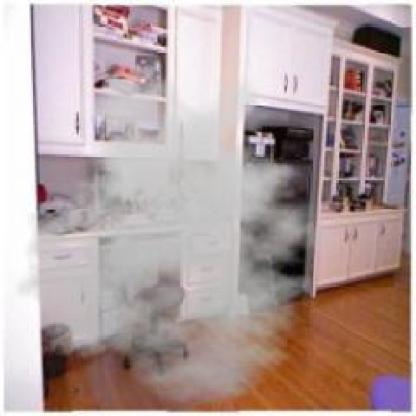Smoke: (6, 62, 356, 404)
